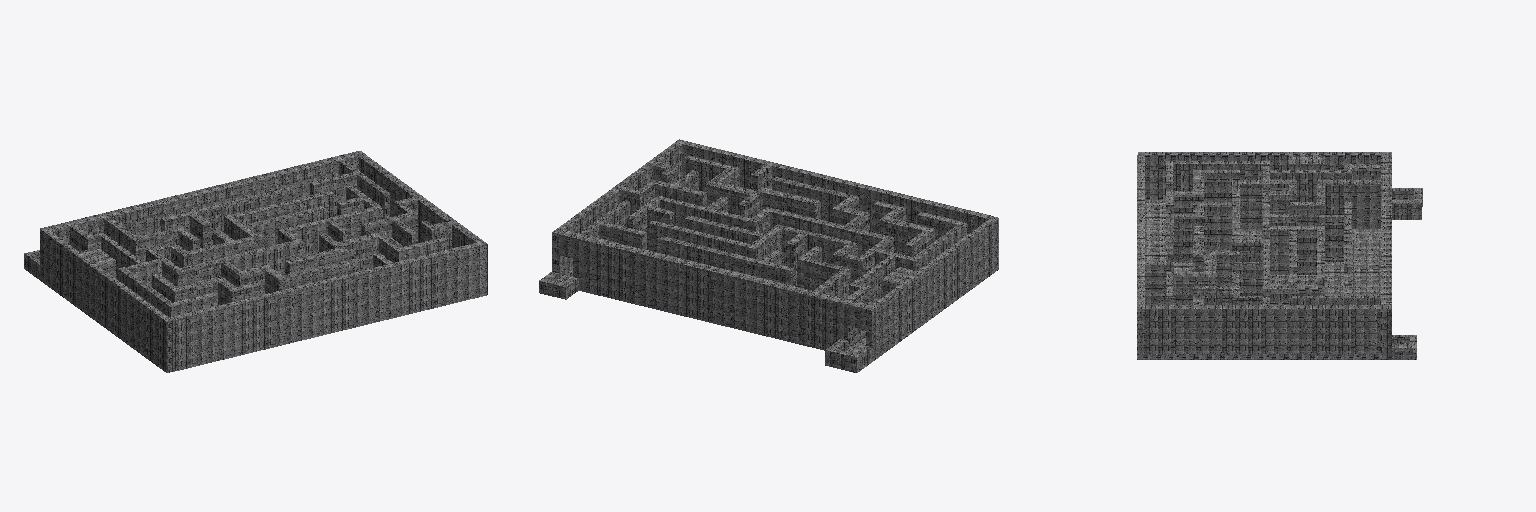
The picture shows the model from 3 angles: view 1: azimuth 30°, elevation 25°; view 2: azimuth 150°, elevation 25°; view 3: azimuth 270°, elevation 25°; orthographic projection.
Parts seen in each view (by area): view 1: Cube; view 2: Cube; view 3: Cube.
Part boxes in pixels (left/top/right/bottom): Cube: left=24, top=151, right=487, bottom=372; Cube: left=539, top=139, right=998, bottom=372; Cube: left=1137, top=152, right=1422, bottom=359.
Bounding box in the file's own units: 97.35 × 15.2 × 75.05.
Materials: 1 (1 with a texture image).